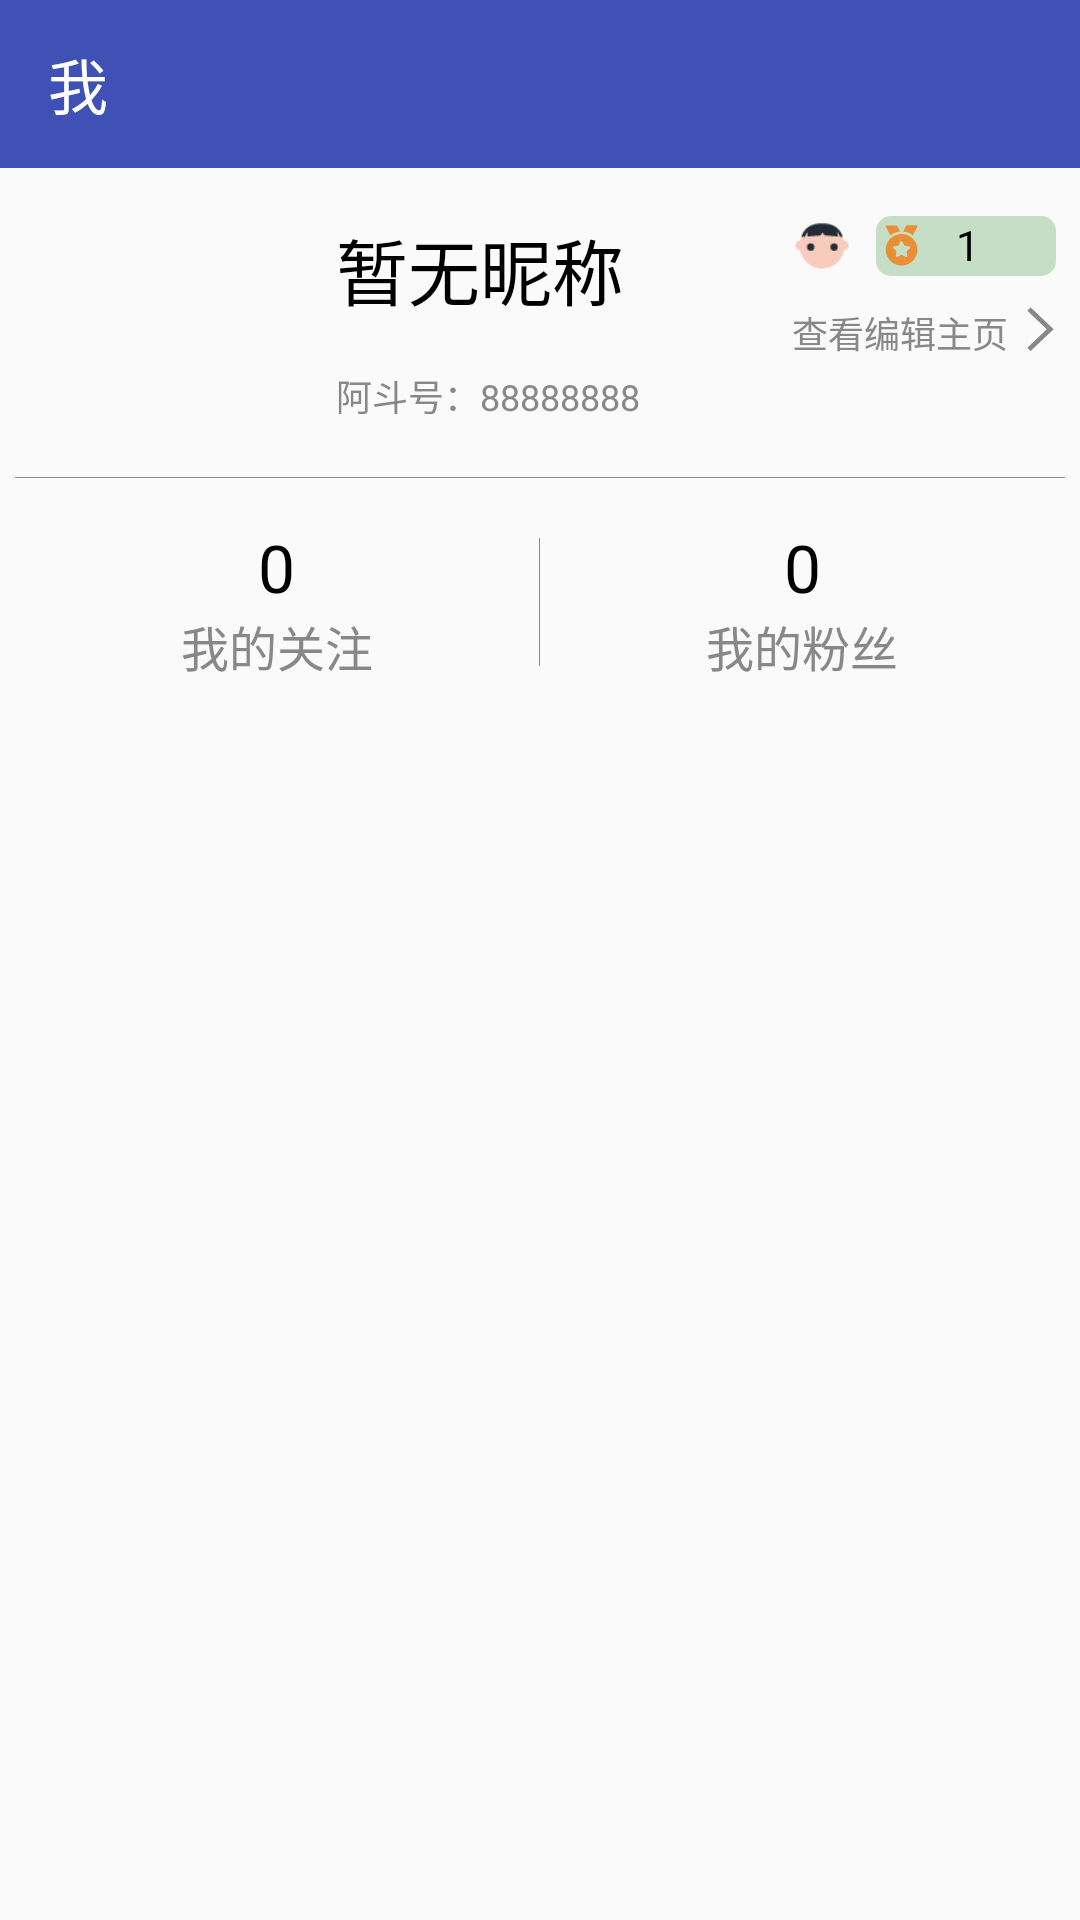

Point at icon controls on the screen. Image size 1080×1920, points as (x,y).
male: (822,246)
right arraw: (1040,329)
